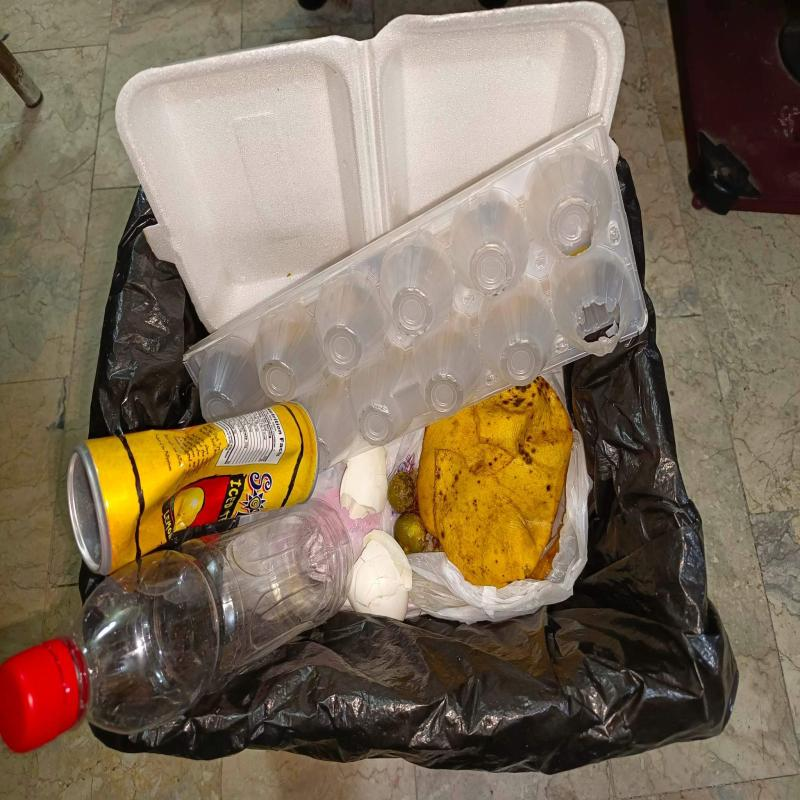aluminum: (66, 402, 318, 577)
egg shell: (348, 529, 412, 622), (339, 446, 388, 519)
fruit peels: (417, 376, 574, 589), (393, 513, 426, 553), (387, 471, 415, 512)
plastic bottle: (0, 502, 353, 755)
plastic container: (185, 121, 650, 476)
styrofoam containers: (114, 2, 627, 332)
